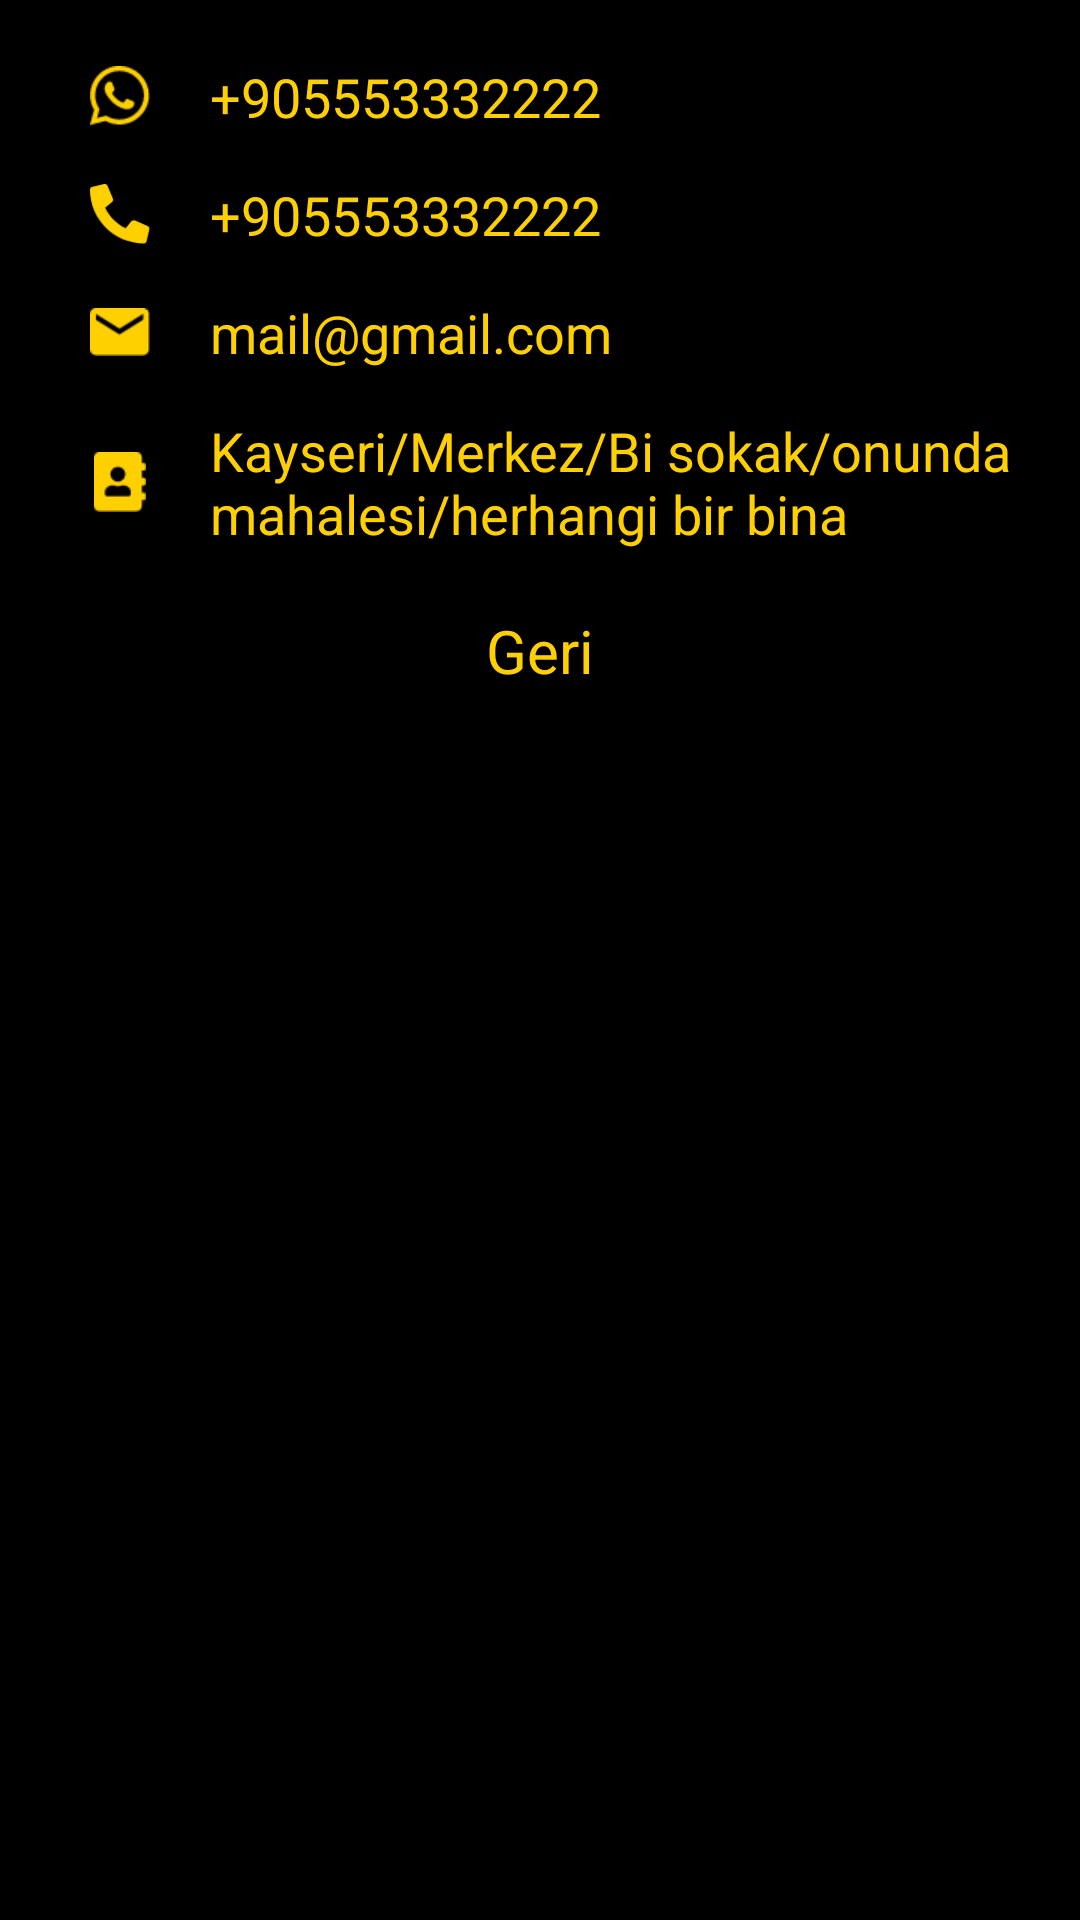

Where to tap for icons on this 1080*1920 app screen, as [x,y]:
contact: [120,482]
phone: [120,214]
